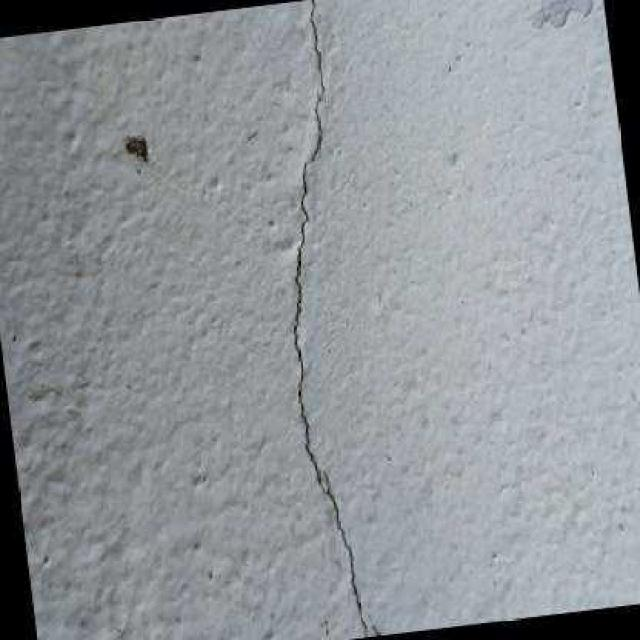D00: (291, 0, 377, 636)
